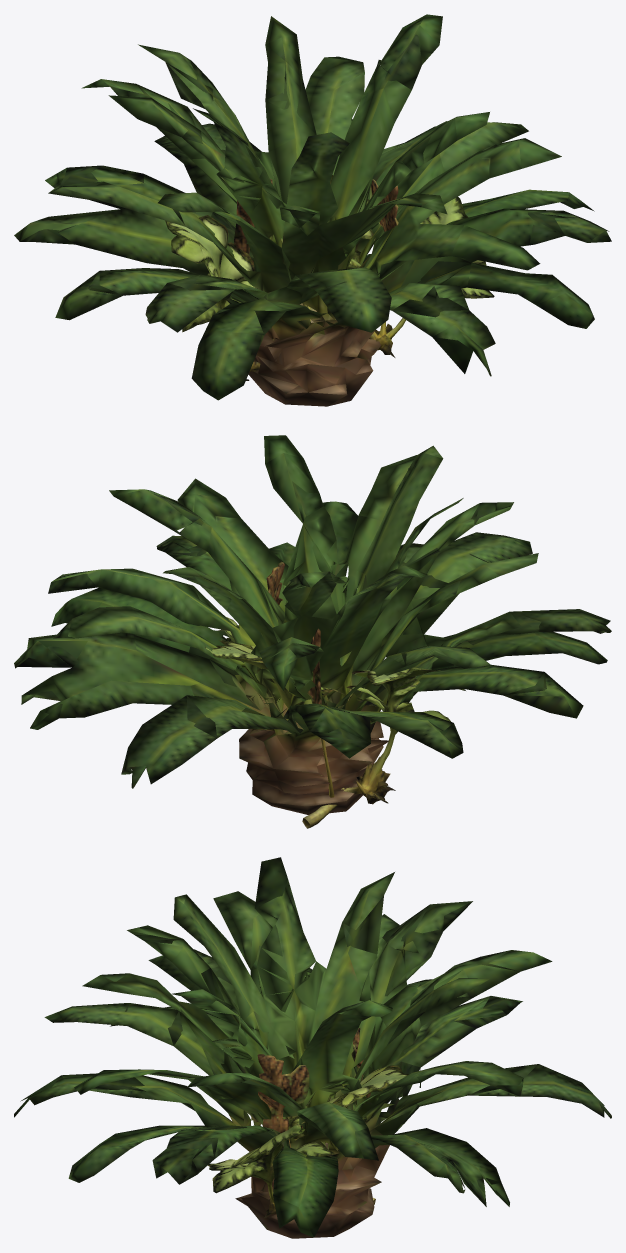
File: habitat-reviewed-plants.glb
The picture shows the model from 3 angles, top to bottom: view 1: azimuth 30°, elevation 25°; view 2: azimuth 150°, elevation 25°; view 3: azimuth 270°, elevation 25°; orthographic projection. The views are drawn at different scales.
Parts seen in each view (by area): view 1: cycad, onoclea; view 2: cycad, onoclea; view 3: cycad, onoclea.
Boxes of the visible parts, left/top/right/bottom form: cycad: left=14, top=14, right=611, bottom=406; onoclea: left=165, top=175, right=494, bottom=380; cycad: left=14, top=435, right=611, bottom=814; onoclea: left=205, top=561, right=465, bottom=828; cycad: left=14, top=857, right=611, bottom=1238; onoclea: left=208, top=1028, right=408, bottom=1218.
Size of the model in its own units: 2.34 by 1.37 by 2.44.
1 material, 1 textured.
